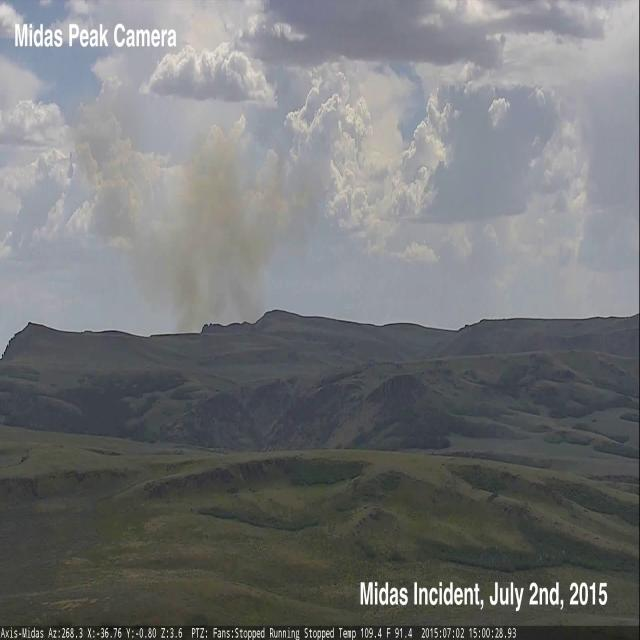smoke: (78, 105, 333, 331)
